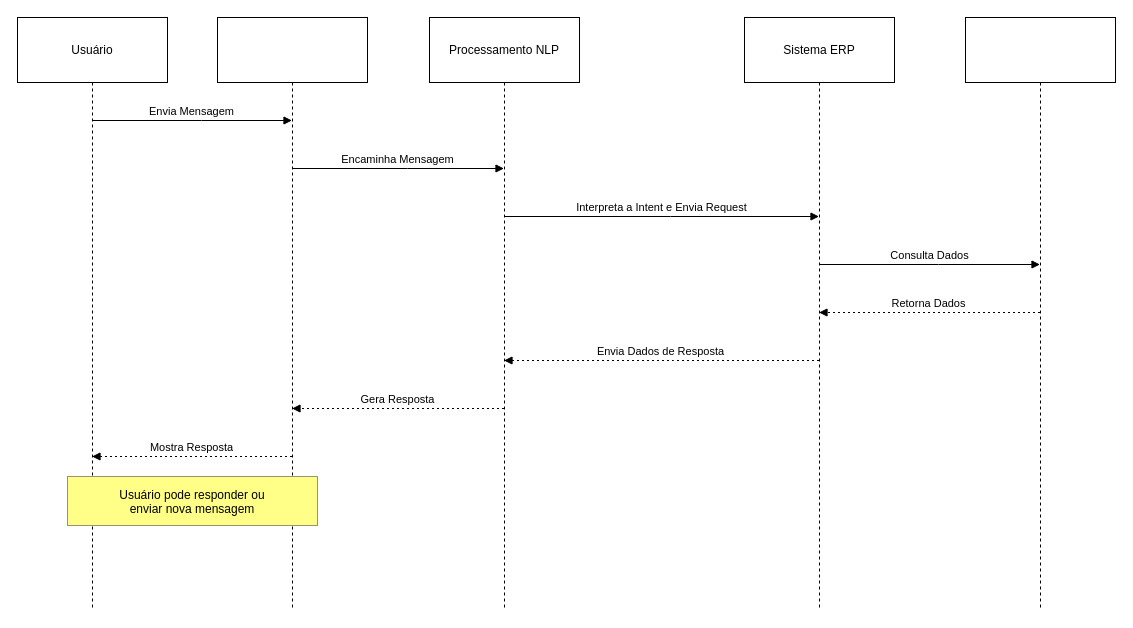
The diagram is 1133 pixels wide and 628 high, and some of its shapes have lost their labels. Each missing label, with the box of its shape:
Banco de Dados: (964, 16, 1116, 610)
Interface do Chatbot: (216, 16, 368, 610)
